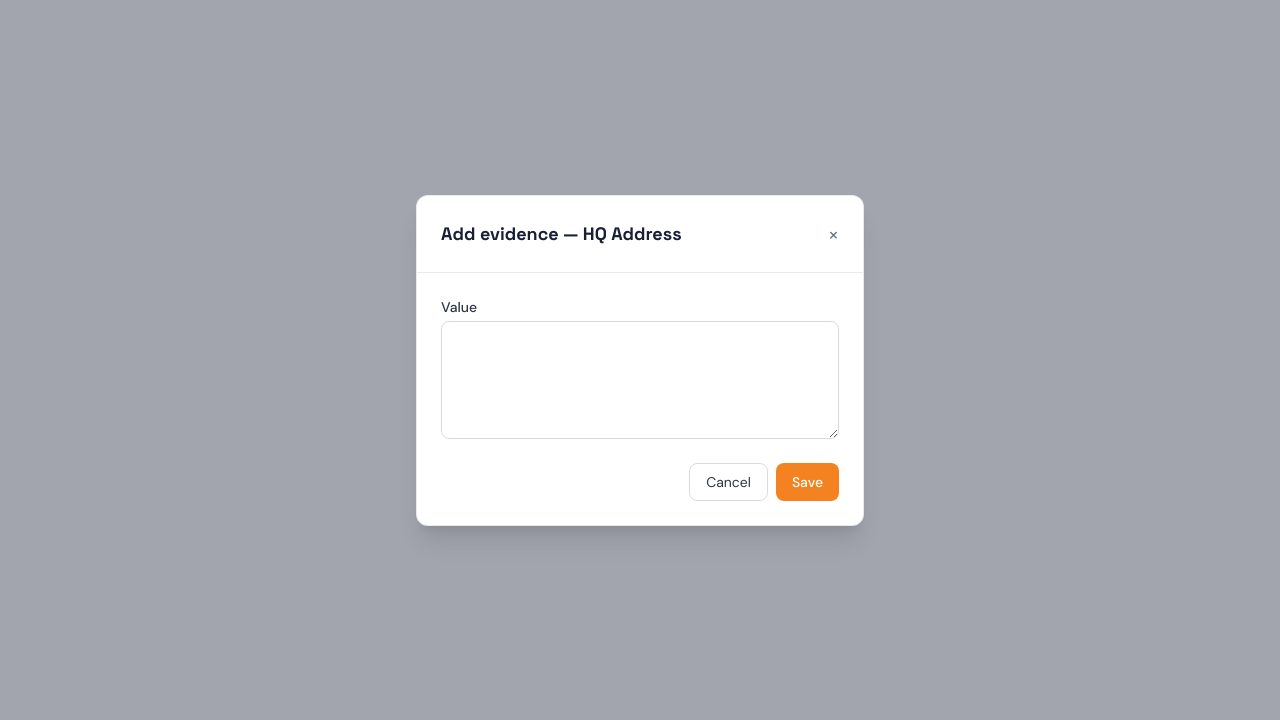
it: structured attribute rejects invalid JSON without fetching
Type "not json" into the text box.
click(640, 380); type("not json")  # box [441,320,839,438]
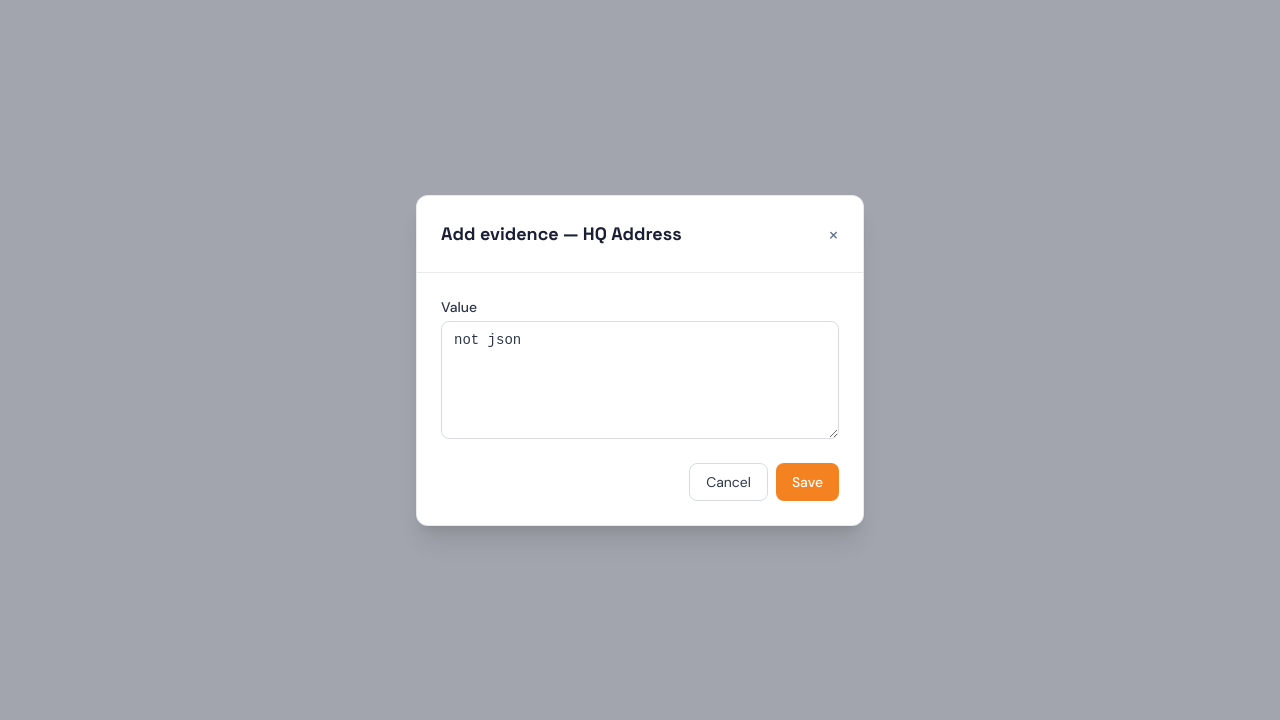
Click the button "Save".
click(807, 482)  # box [776,462,839,500]
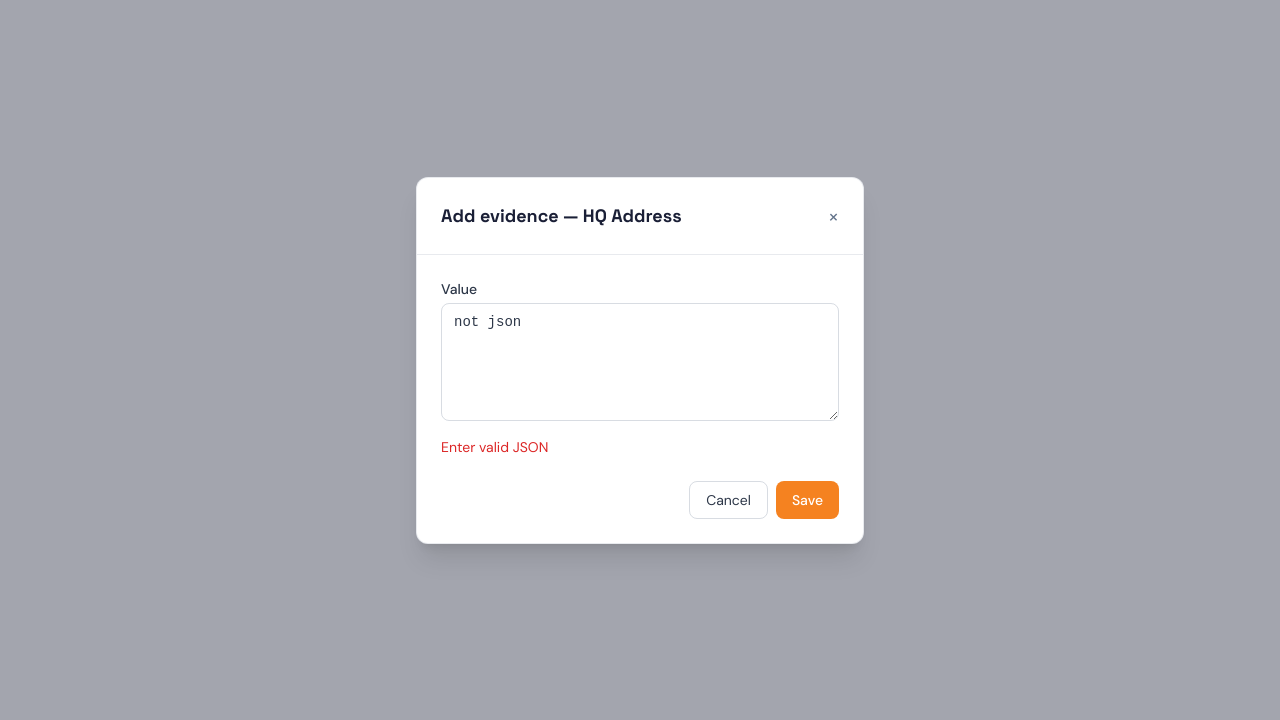
Now the text "Enter valid JSON" is shown, box [441,438,548,456]
